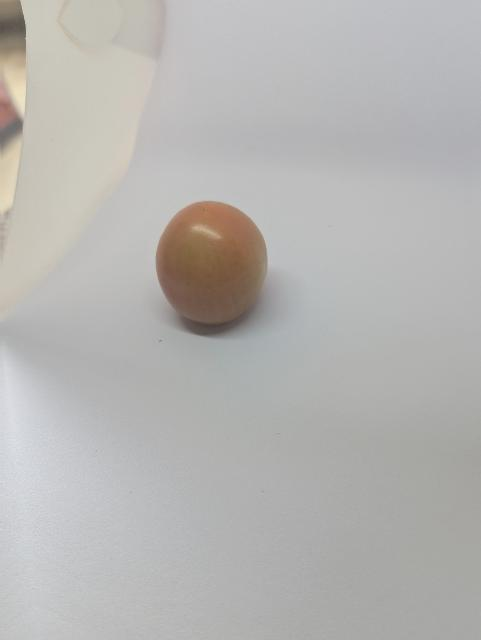turning: (154, 200, 283, 337)
